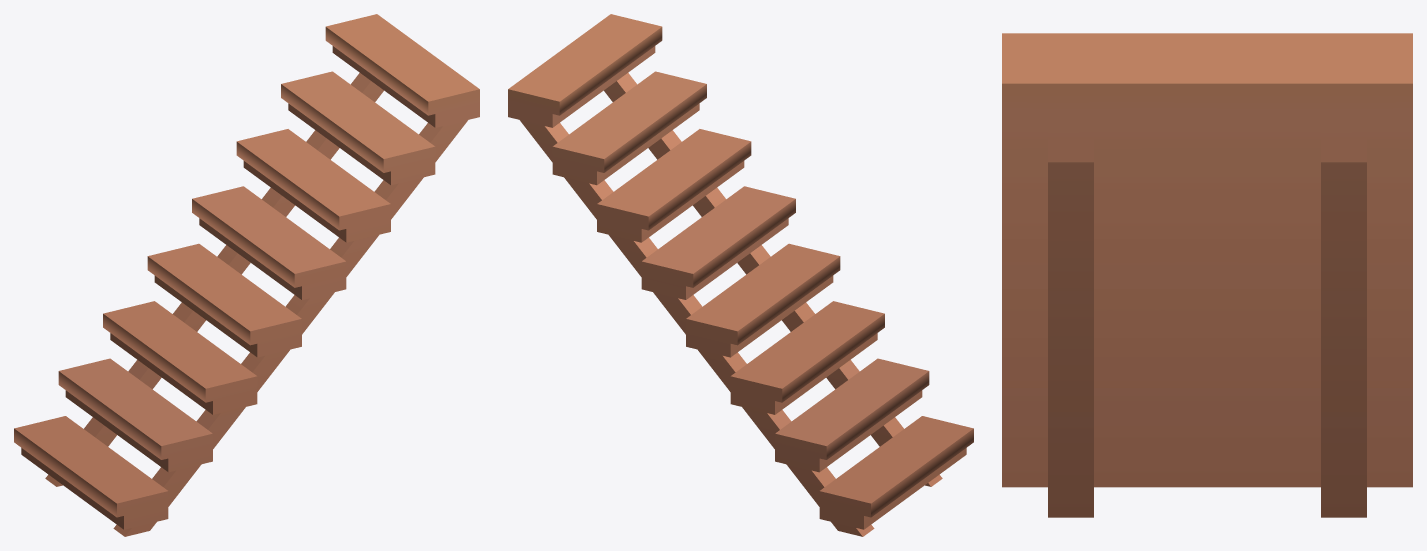
File: stairs-wood.glb
3 views of the same model, side by side, from view 1: azimuth 30°, elevation 25°; view 2: azimuth 150°, elevation 25°; view 3: azimuth 270°, elevation 25° (orthographic). The views are drawn at different scales.
Visible parts, largest first — view 1: stairs-wood; view 2: stairs-wood; view 3: stairs-wood.
Boxes of the visible parts, x1,y1,x2,y2 form: stairs-wood: [14, 14, 479, 536]; stairs-wood: [508, 14, 973, 536]; stairs-wood: [1002, 33, 1412, 517].
Bounding box in the file's own units: 1.02 × 1 × 0.5.
Materials: 1 (1 with a texture image).
